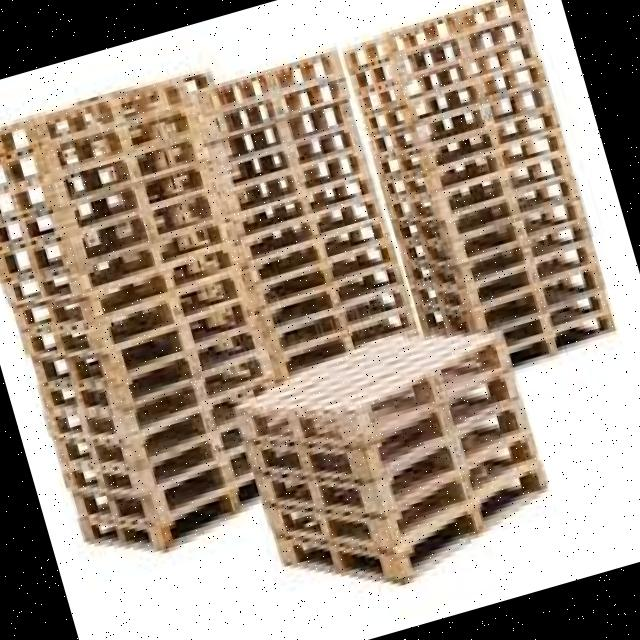Wooden-Pallets: (261, 428, 542, 553), (336, 322, 520, 439), (0, 74, 195, 162), (376, 96, 570, 180), (390, 167, 586, 250), (405, 214, 600, 295), (255, 230, 406, 310), (360, 0, 531, 66), (230, 146, 374, 215), (210, 43, 345, 114)
